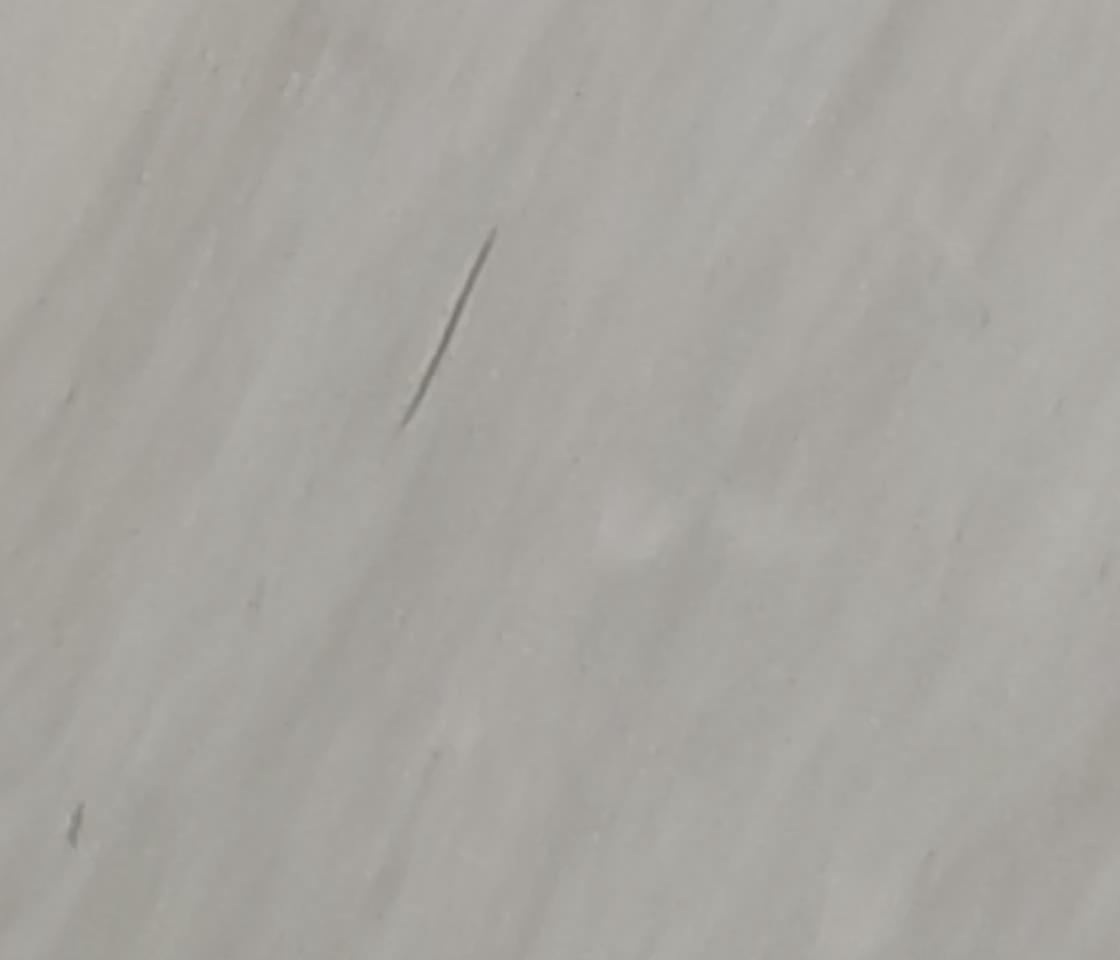scratch: (388, 225, 498, 429), (56, 802, 89, 851)
